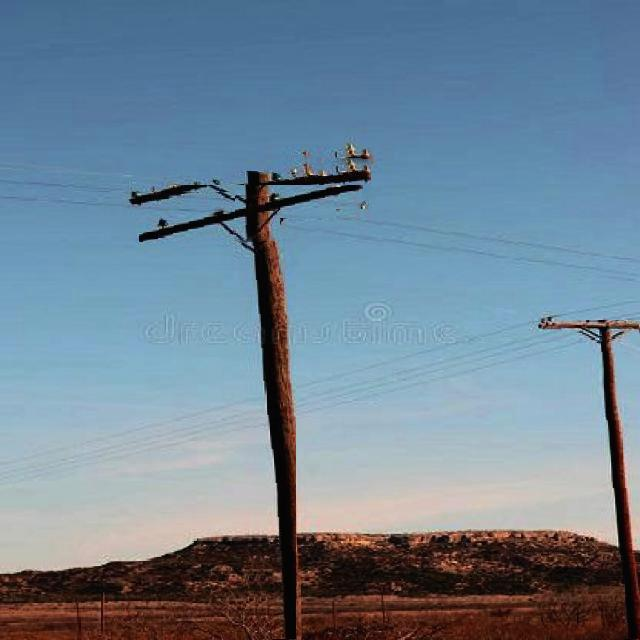crossarm: (139, 185, 363, 245), (133, 155, 371, 210), (539, 320, 640, 342)
pole: (245, 162, 296, 640), (600, 319, 640, 640)
wire: (281, 218, 640, 278), (337, 210, 635, 269), (0, 192, 235, 214), (0, 160, 170, 186), (0, 171, 132, 191)
